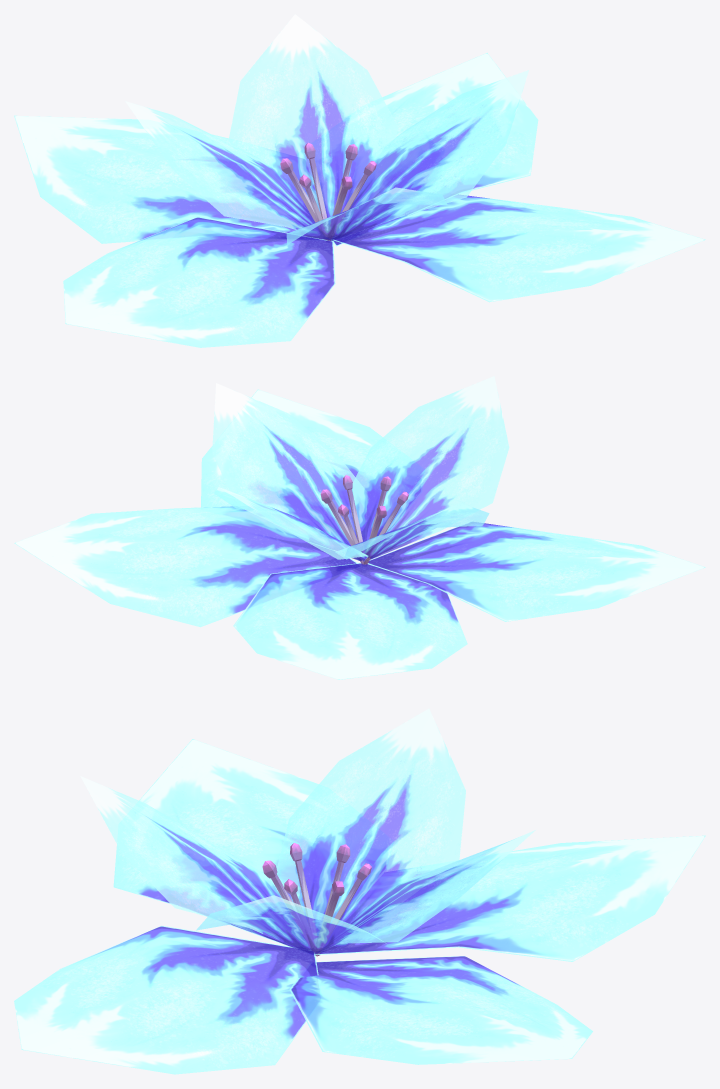
The model's file is alien_flower.glb.
3 views of the same model, one above another, from view 1: azimuth 30°, elevation 25°; view 2: azimuth 150°, elevation 25°; view 3: azimuth 270°, elevation 25° (orthographic). The views are drawn at different scales.
Parts seen in each view (by area): view 1: pPlane11, pPlane10, pPlane4, pPlane13, pPlane9, pPlane12, pPlane14, pPlane8, pSphere11; view 2: pPlane9, pPlane10, pPlane4, pPlane11, pPlane8, pPlane12, pPlane14, pPlane13; view 3: pPlane4, pPlane11, pPlane10, pPlane14, pPlane9, pPlane8, pPlane13, pPlane12, pSphere7, pSphere8, pSphere10, pSphere11.
Boxes of the visible parts, x1,y1,x2,y2 form: pPlane11: (63,217,335,347); pPlane10: (14,115,323,243); pPlane4: (331,194,705,302); pPlane13: (228,14,398,236); pPlane9: (296,53,538,246); pPlane12: (336,70,528,238); pPlane14: (125,101,329,239); pPlane8: (286,187,447,244); pSphere11: (304,142,328,230); pPlane9: (14,506,358,627); pPlane10: (233,563,467,679); pPlane4: (201,389,424,550); pPlane11: (368,522,705,621); pPlane8: (352,376,509,559); pPlane12: (212,383,366,559); pPlane14: (336,503,489,561); pPlane13: (214,487,368,561); pPlane4: (14,925,318,1074); pPlane11: (113,739,393,948); pPlane10: (315,835,705,961); pPlane14: (276,708,465,949); pPlane9: (289,956,592,1064); pPlane8: (80,776,309,952); pPlane13: (315,830,535,953); pPlane12: (196,895,386,954); pSphere7: (290,843,320,952); pSphere8: (262,860,312,950); pSphere10: (315,881,344,955); pSphere11: (316,863,371,956).
Bounding box in the file's own units: 5.78 × 1.41 × 5.18.
Materials: 3 (3 with a texture image).
